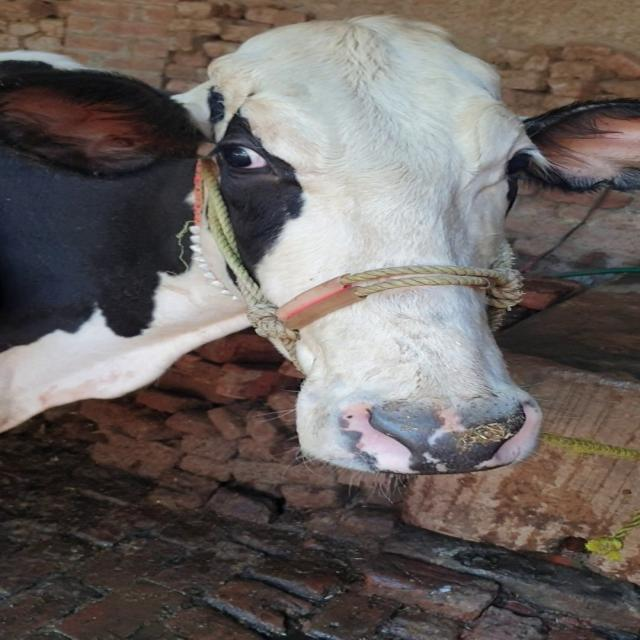cowFace: (179, 20, 559, 467)
